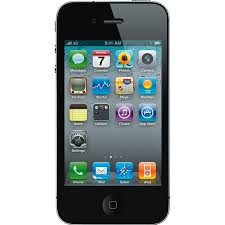iphone: (52, 1, 172, 224)
iphone4: (53, 1, 173, 225)
